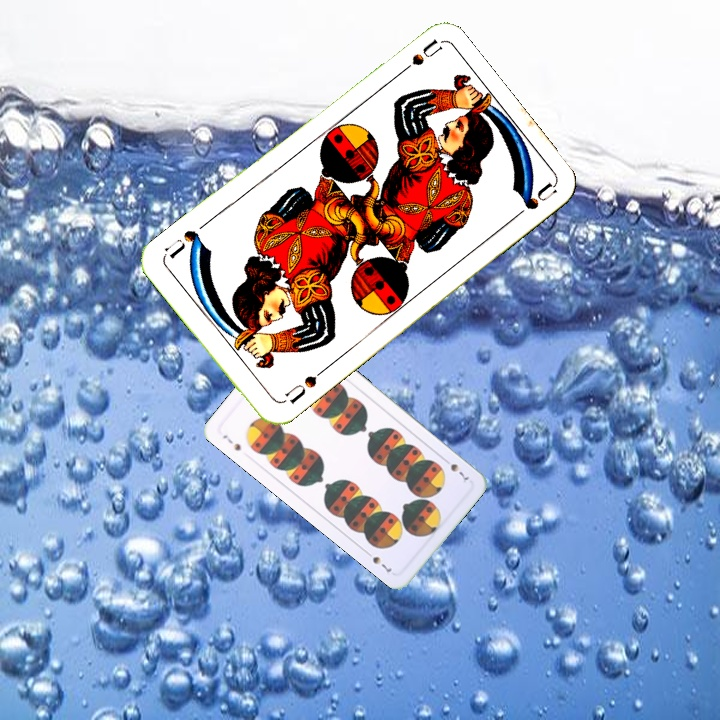S7: (439, 454, 471, 483), (218, 431, 244, 454)
SU: (390, 36, 444, 81), (280, 364, 328, 407)
